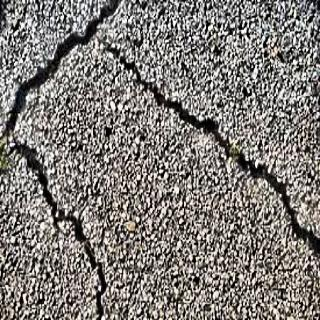crack: (88, 26, 320, 270), (0, 0, 129, 320), (95, 32, 147, 78)
